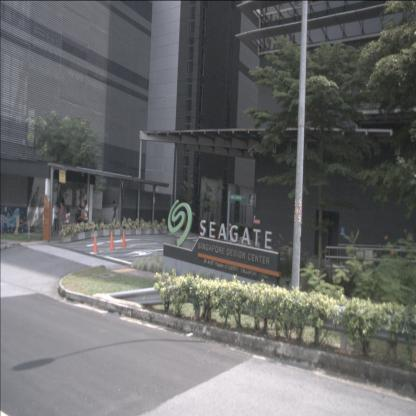cone: (92, 234, 100, 253), (108, 231, 116, 250), (121, 230, 127, 248)
